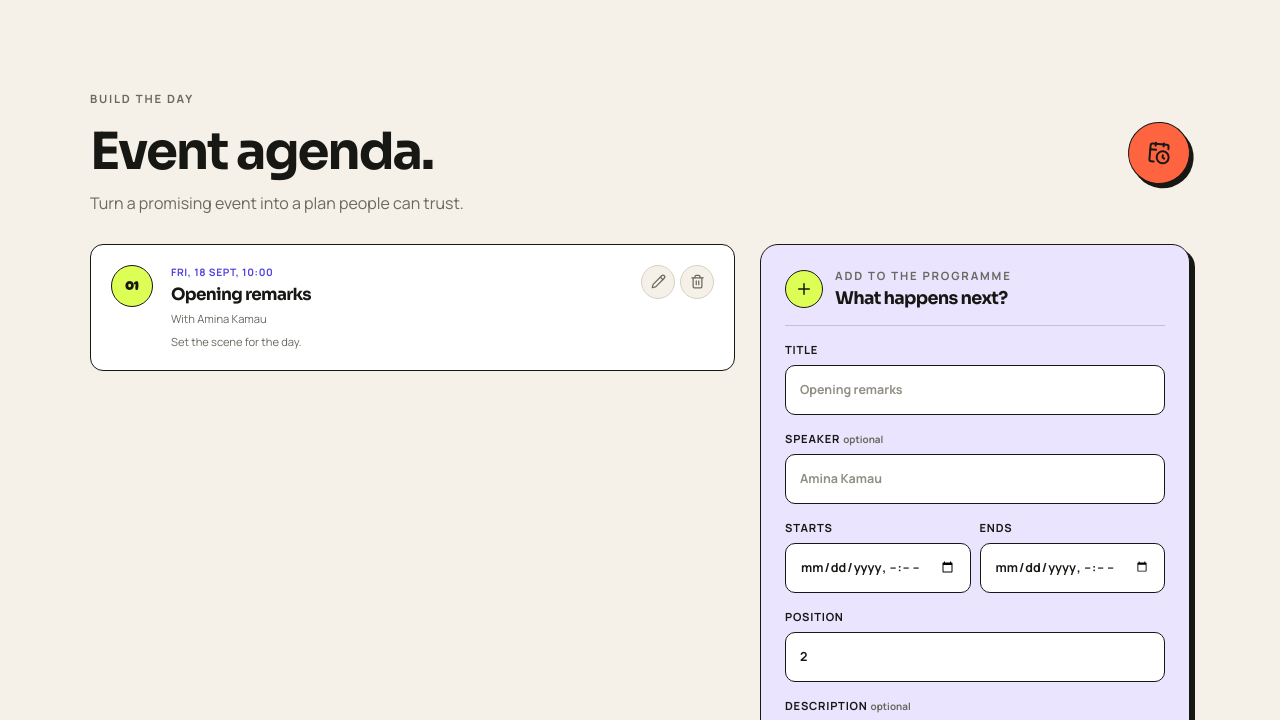
Test case: AgendaManager › updates an agenda item and removes it only after confirmation
Expected: the heading "Opening remarks" is shown, [171,284,311,305]
Click the button named "edit opening remarks" at (658, 282), box [641,265,675,299]
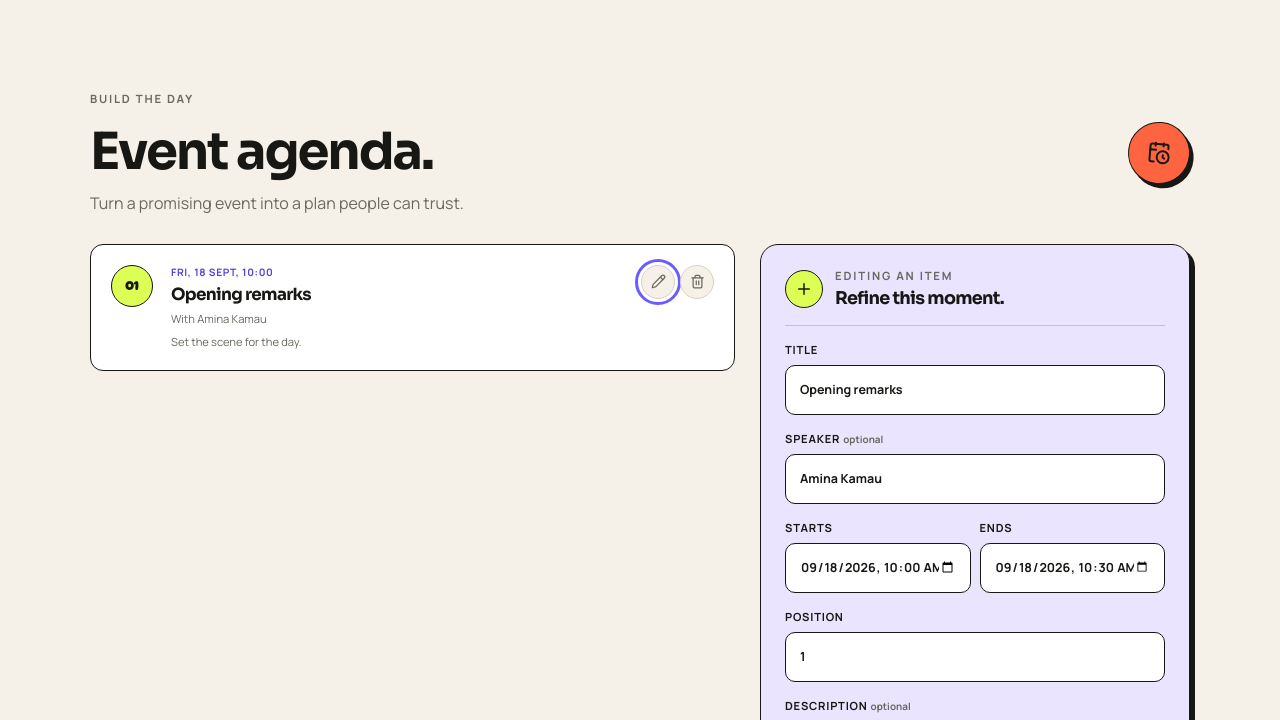
Type "Welcome and opening" into the field labelled "Title" at (975, 390), box [785,364,1165,414]
(page scrolled)
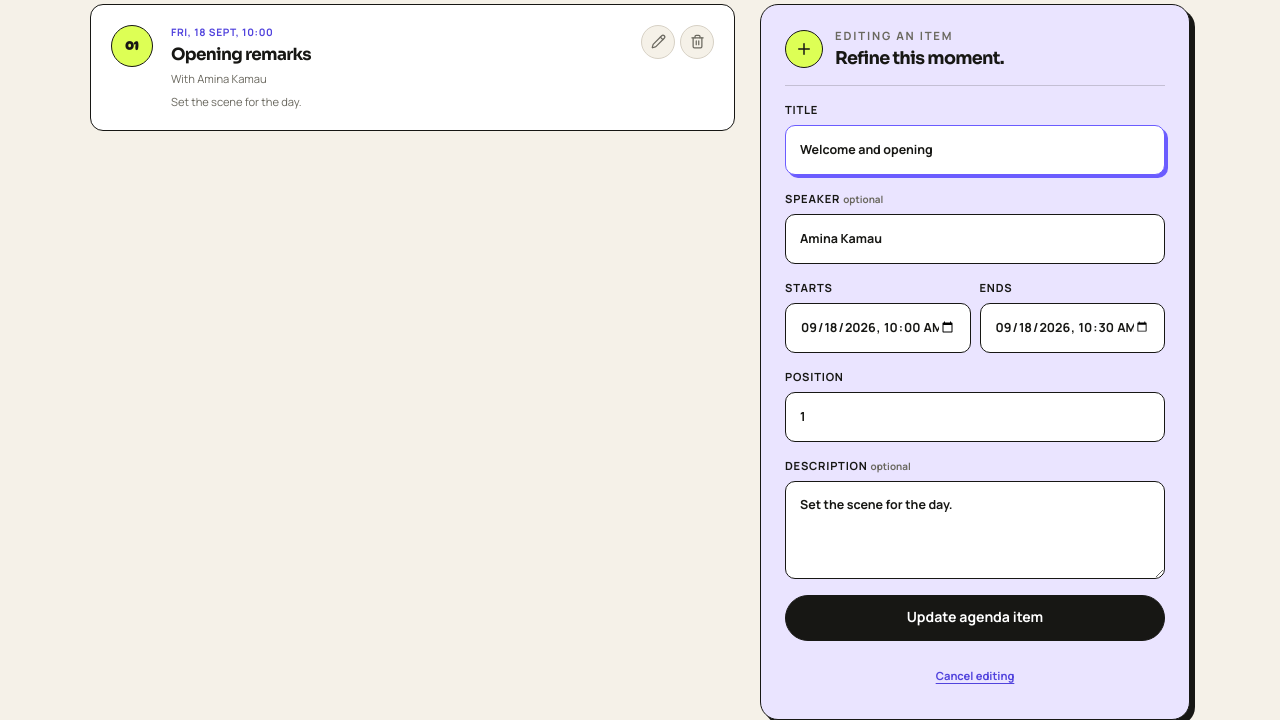
Click the button "Update agenda item" at (975, 618), box [785,594,1165,640]
(page scrolled)
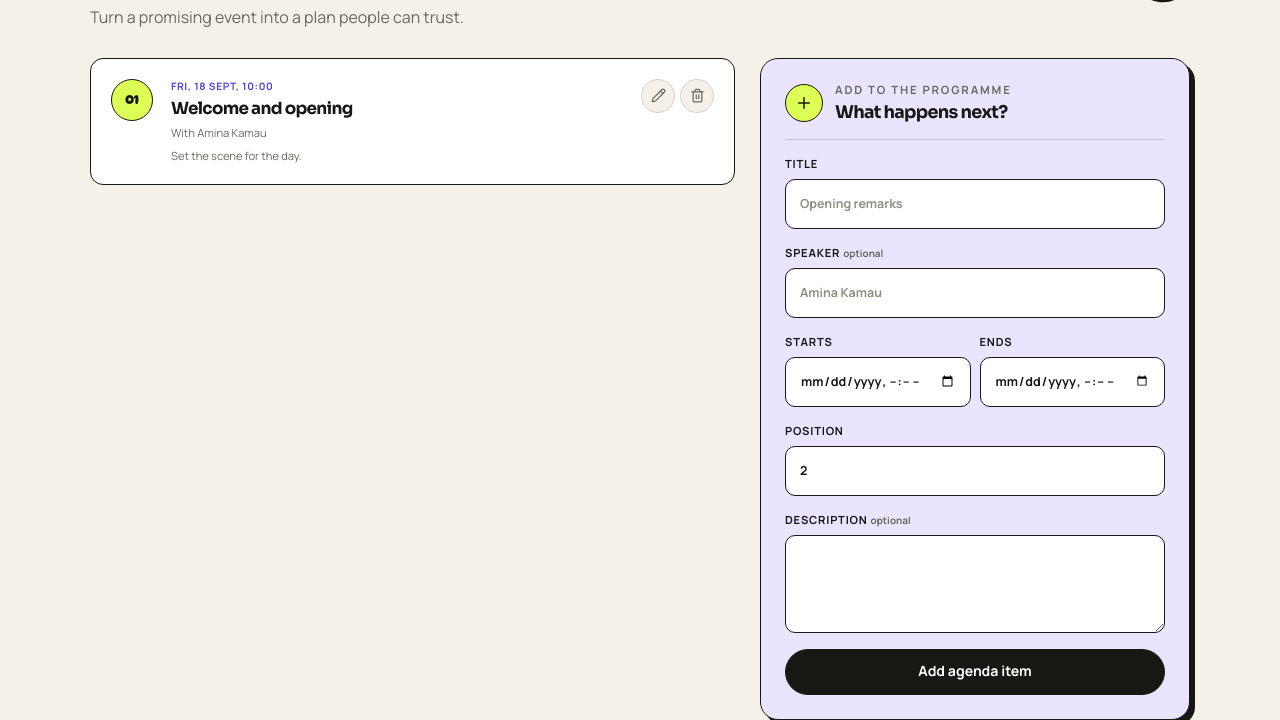
Result: the heading "Welcome and opening" is shown at [171,98,353,119]
Click the button named "delete welcome and opening" at (697, 96), box [680,79,714,113]
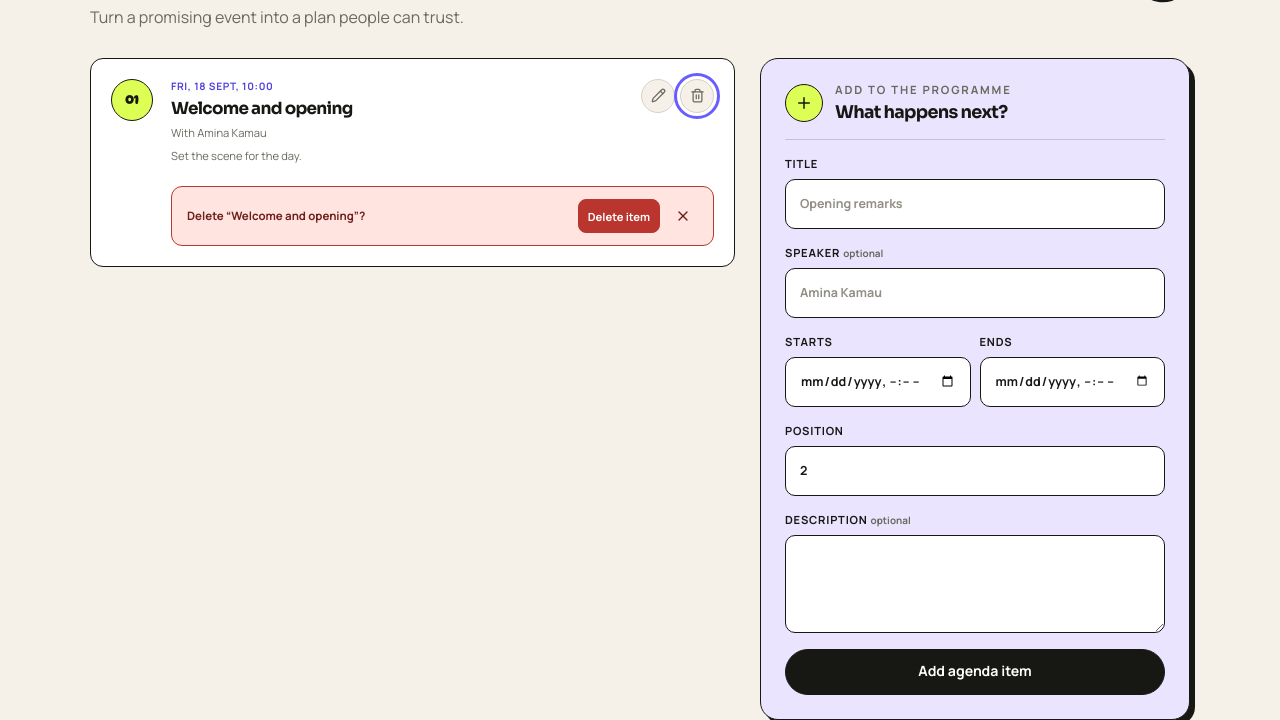
Click the button "Delete item" at (619, 216), box [578,200,660,234]
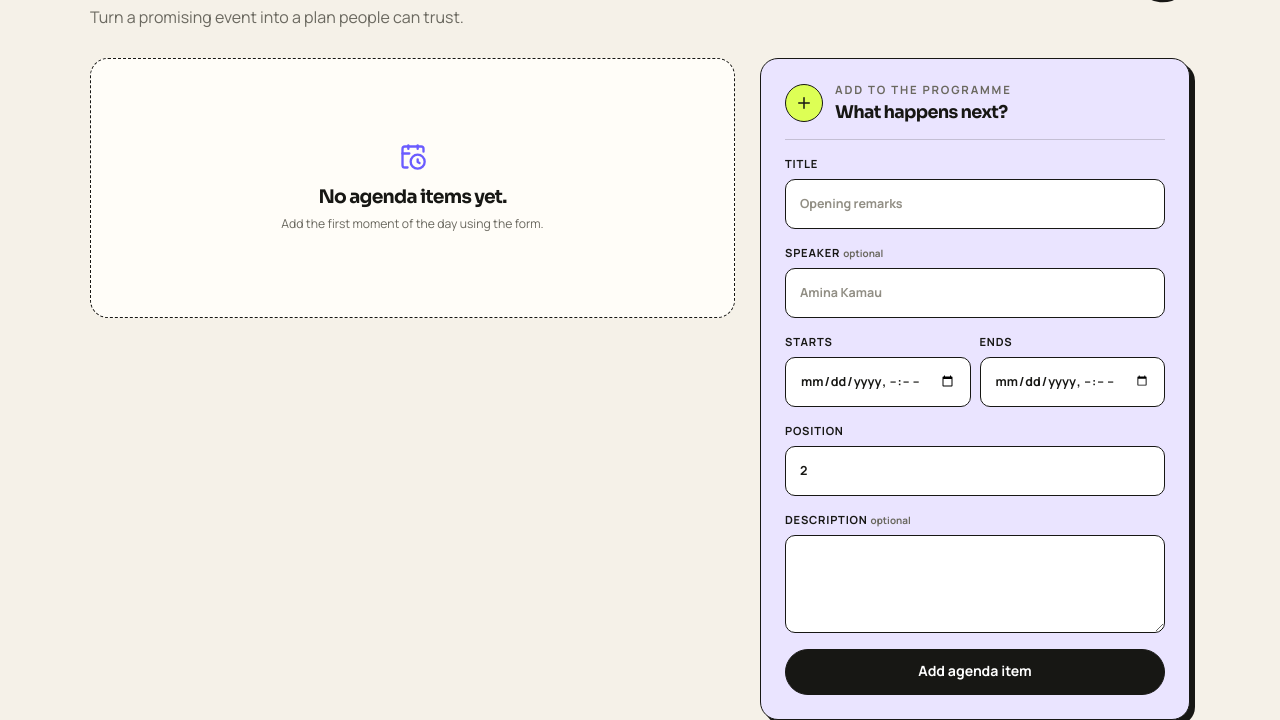
Result: the heading "No agenda items yet." is shown at [318,185,507,208]
